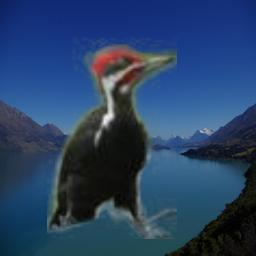Woodpecker: (47, 36, 177, 239)
